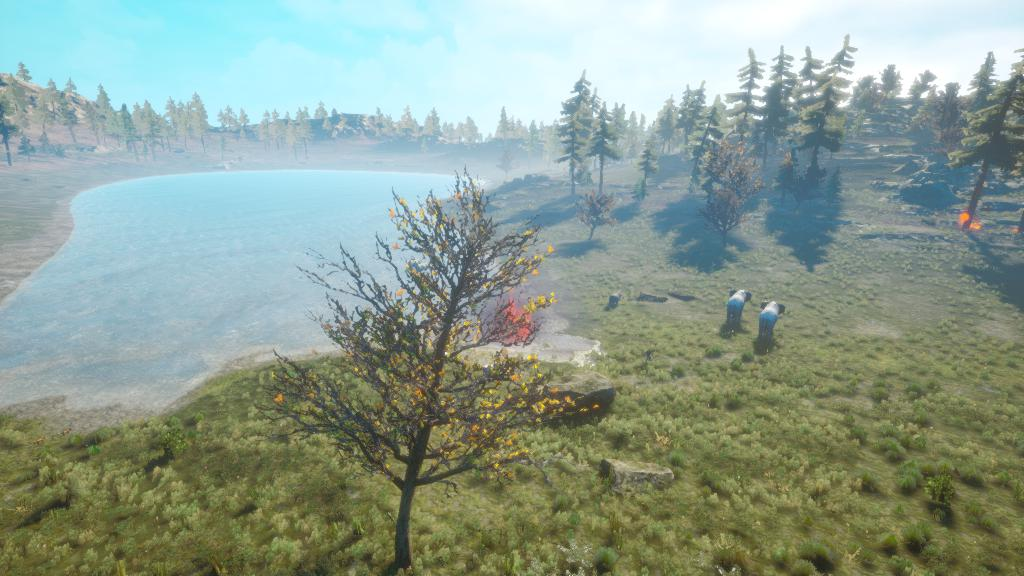Fire: (956, 203, 987, 233)
elephant: (718, 260, 756, 335), (751, 286, 788, 354)
hippopotamus: (597, 282, 632, 315)
human: (628, 331, 669, 372)
